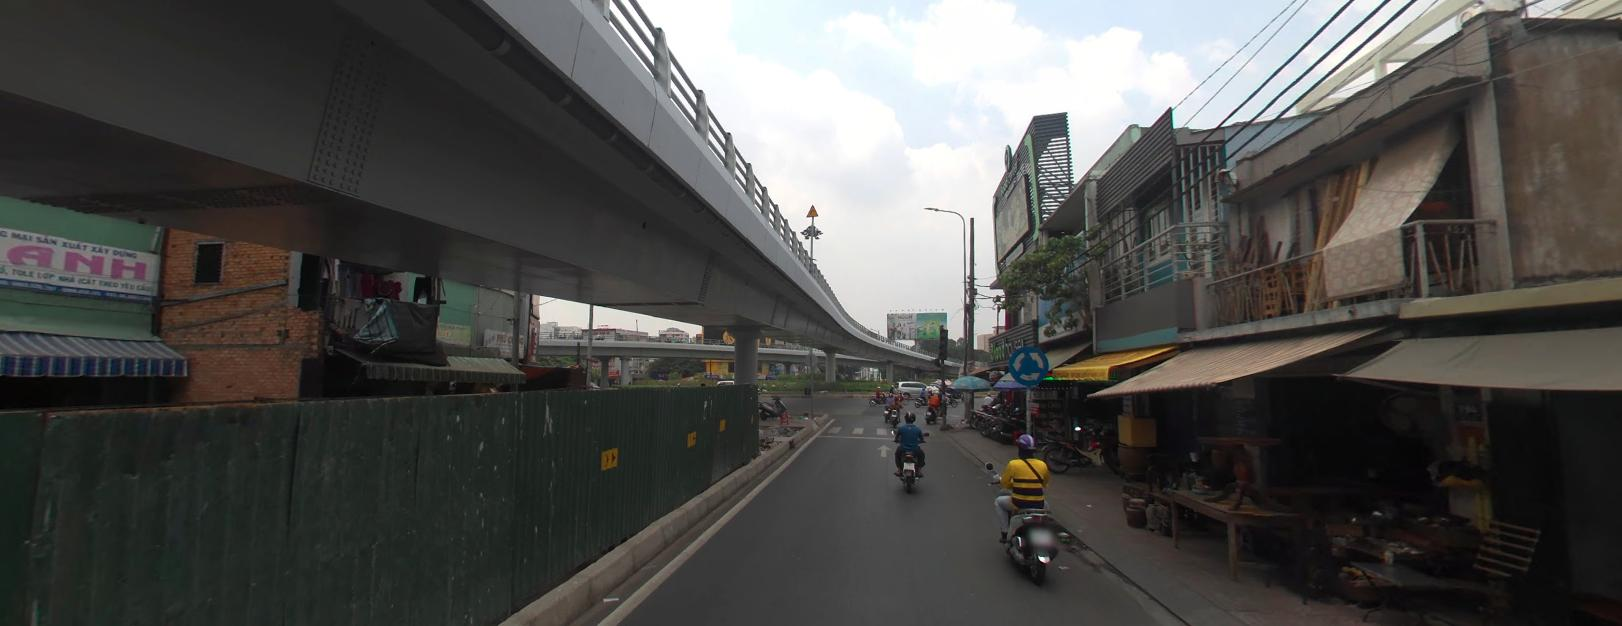Hieu lenh: (1007, 342, 1049, 385)
